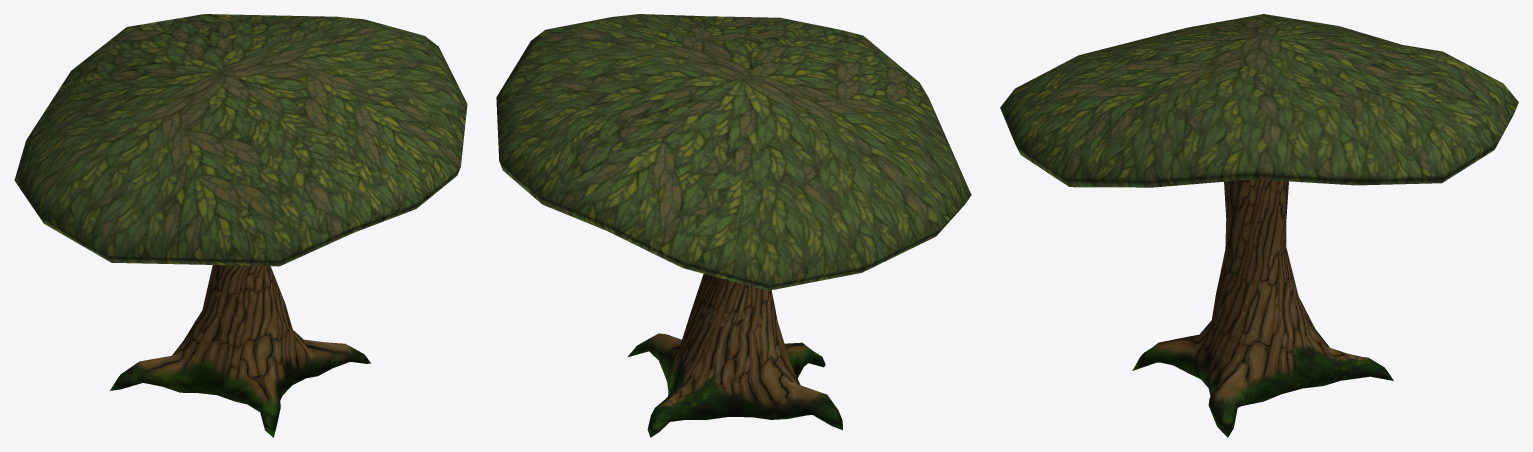
File: TwistedOak1Shape.dae
3 views of the same model, side by side, from view 1: azimuth 30°, elevation 25°; view 2: azimuth 150°, elevation 25°; view 3: azimuth 270°, elevation 25° (orthographic). The views are drawn at different scales.
Visible parts, largest first — view 1: TwistedOak1; view 2: TwistedOak1; view 3: TwistedOak1.
Part boxes in pixels (x1,y1,x2,y2): TwistedOak1: (14,14,467,437); TwistedOak1: (496,14,971,437); TwistedOak1: (1000,14,1518,437).
Bounding box in the file's own units: 21.34 × 16.75 × 22.51.
